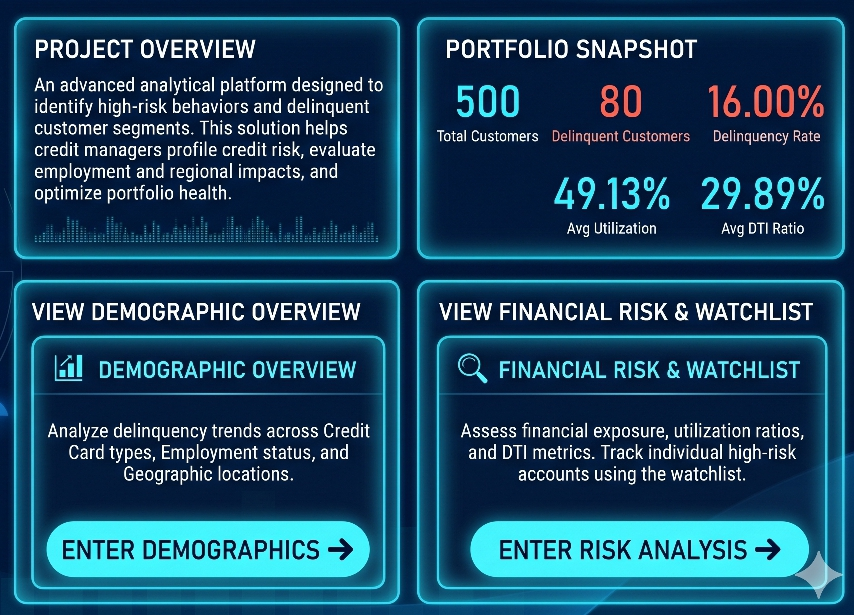

The dashboard page shown, as its layout file describes it:
{"tool":"powerbi","page":{"name":"Home page","canvas":[1280,720],"ordinal":0},"visuals":[{"type":"textbox","box":[243.6,0,896,60.6],"z":0},{"type":"image","box":[310.4,99.2,786.6,555.6],"z":1000},{"type":"actionButton","box":[368.5,572.6,282,46.8],"z":2000},{"type":"actionButton","box":[746.9,572.6,301.9,46.8],"z":3000}]}

Visuals, with their boxes on the page's 1280x720 design canvas (x1, y1, x2, y2). These are canvas units, not pixel positions in the 854x615 screenshot, which may show the page scaled, cropped or inside an application window:
textbox: bbox=(244, 0, 1140, 61)
image: bbox=(310, 99, 1097, 655)
actionButton: bbox=(368, 573, 650, 619)
actionButton: bbox=(747, 573, 1049, 619)
